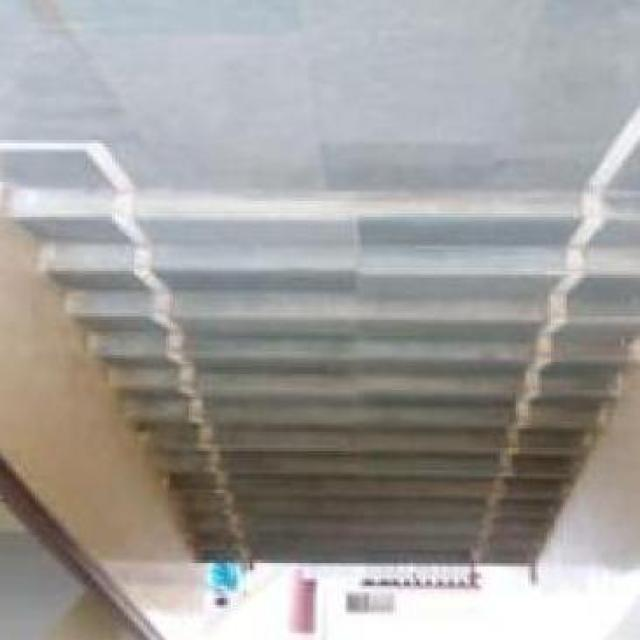Stairs: (22, 54, 618, 586)
